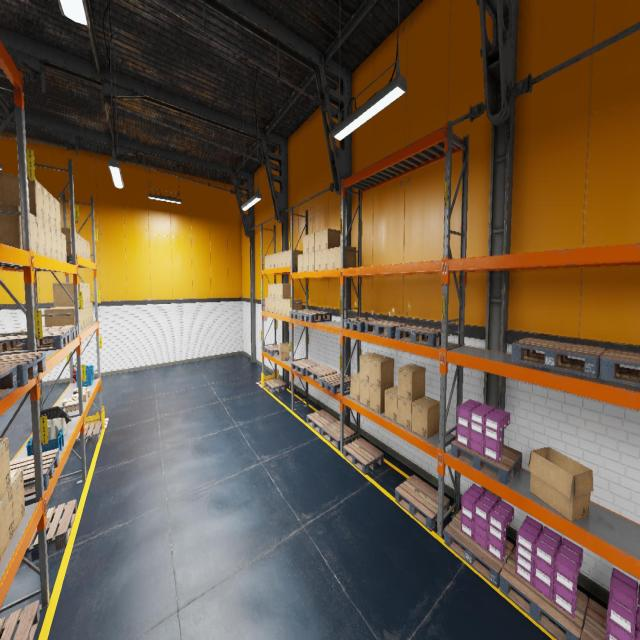box: (528, 447, 594, 521), (0, 172, 44, 222), (412, 396, 439, 439), (0, 487, 14, 561), (0, 203, 22, 249), (398, 364, 425, 401), (10, 469, 25, 535), (398, 396, 424, 430), (369, 356, 394, 388), (51, 306, 81, 331), (369, 384, 394, 414), (52, 283, 84, 306), (0, 437, 11, 502), (359, 352, 382, 382), (44, 308, 75, 326), (384, 385, 398, 423), (335, 246, 356, 268), (321, 228, 340, 250), (37, 217, 46, 256), (42, 186, 51, 225), (30, 212, 38, 254), (61, 227, 72, 254), (350, 373, 360, 402), (44, 222, 52, 258), (360, 379, 369, 408), (49, 193, 56, 229), (287, 300, 302, 316), (287, 250, 302, 266), (282, 298, 296, 314), (61, 396, 78, 409), (278, 342, 290, 360), (55, 198, 61, 232), (51, 227, 57, 260), (72, 388, 87, 401), (56, 230, 62, 261), (278, 284, 290, 299), (61, 233, 67, 262), (64, 400, 78, 412), (328, 248, 335, 269), (314, 231, 321, 251), (314, 251, 321, 270), (77, 388, 91, 397), (321, 250, 327, 270), (308, 232, 314, 252), (308, 252, 314, 271), (73, 386, 87, 394), (303, 234, 308, 253), (303, 253, 308, 271), (77, 234, 81, 256), (80, 236, 84, 258), (82, 283, 86, 305), (298, 254, 302, 272), (81, 306, 84, 329), (282, 250, 286, 266), (83, 238, 86, 259), (86, 304, 89, 325), (85, 283, 88, 304), (88, 304, 91, 324), (90, 302, 93, 322), (87, 284, 90, 304), (271, 298, 275, 312), (271, 284, 275, 298), (271, 254, 275, 268), (264, 255, 268, 269), (275, 298, 278, 314), (275, 252, 278, 268), (76, 232, 78, 255), (84, 305, 86, 328), (279, 299, 282, 314), (279, 252, 282, 267), (268, 298, 271, 312), (275, 284, 278, 298), (268, 254, 271, 268), (86, 240, 88, 260), (265, 298, 268, 311), (268, 284, 271, 297), (88, 242, 90, 261)
pallets: (499, 546, 588, 640), (444, 510, 514, 588), (511, 337, 606, 378), (451, 438, 522, 485), (25, 499, 77, 561), (395, 475, 450, 531), (10, 449, 59, 497), (580, 598, 636, 640), (0, 329, 71, 355), (0, 351, 46, 387), (0, 600, 40, 640), (599, 348, 640, 387), (343, 437, 383, 474), (13, 325, 78, 345), (321, 420, 356, 449), (396, 325, 441, 347), (365, 320, 411, 338), (72, 421, 102, 448), (306, 410, 338, 434), (320, 372, 350, 394), (306, 364, 337, 384), (343, 317, 384, 332), (0, 366, 17, 400), (291, 359, 319, 376), (300, 311, 332, 322), (265, 378, 286, 393), (289, 310, 318, 320), (264, 345, 279, 355)
